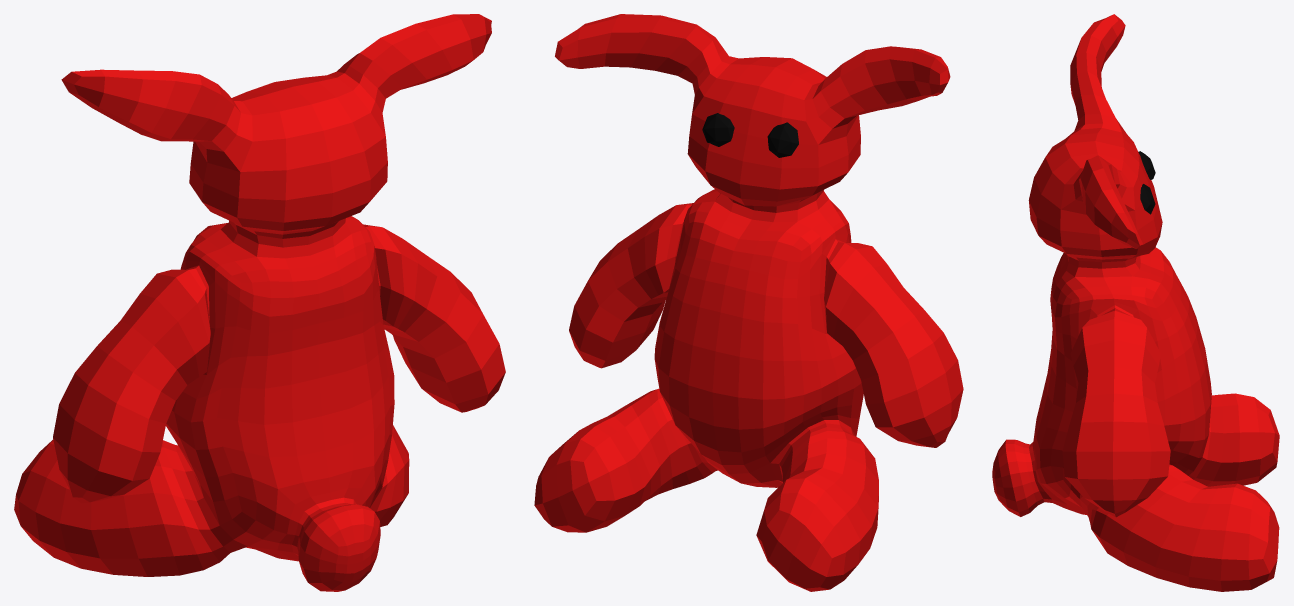
File: stuffed_toy_001.FBX
The picture shows the model from 3 angles, left to right: view 1: azimuth 30°, elevation 25°; view 2: azimuth 150°, elevation 25°; view 3: azimuth 270°, elevation 25°; orthographic projection. The views are drawn at different scales.
Visible parts, largest first — view 1: stuffedFriend_bak_002; view 2: stuffedFriend_bak_002, eyeball_001, eyeBall-002; view 3: stuffedFriend_bak_002.
Part boxes in pixels (<box>): stuffedFriend_bak_002: <box>14,14,505,591</box>; stuffedFriend_bak_002: <box>534,14,963,591</box>; eyeball_001: <box>767,122,798,157</box>; eyeBall-002: <box>702,113,734,146</box>; stuffedFriend_bak_002: <box>992,14,1279,591</box>.
Bounding box in the file's own units: 0.5397 × 0.6544 × 0.3846.
